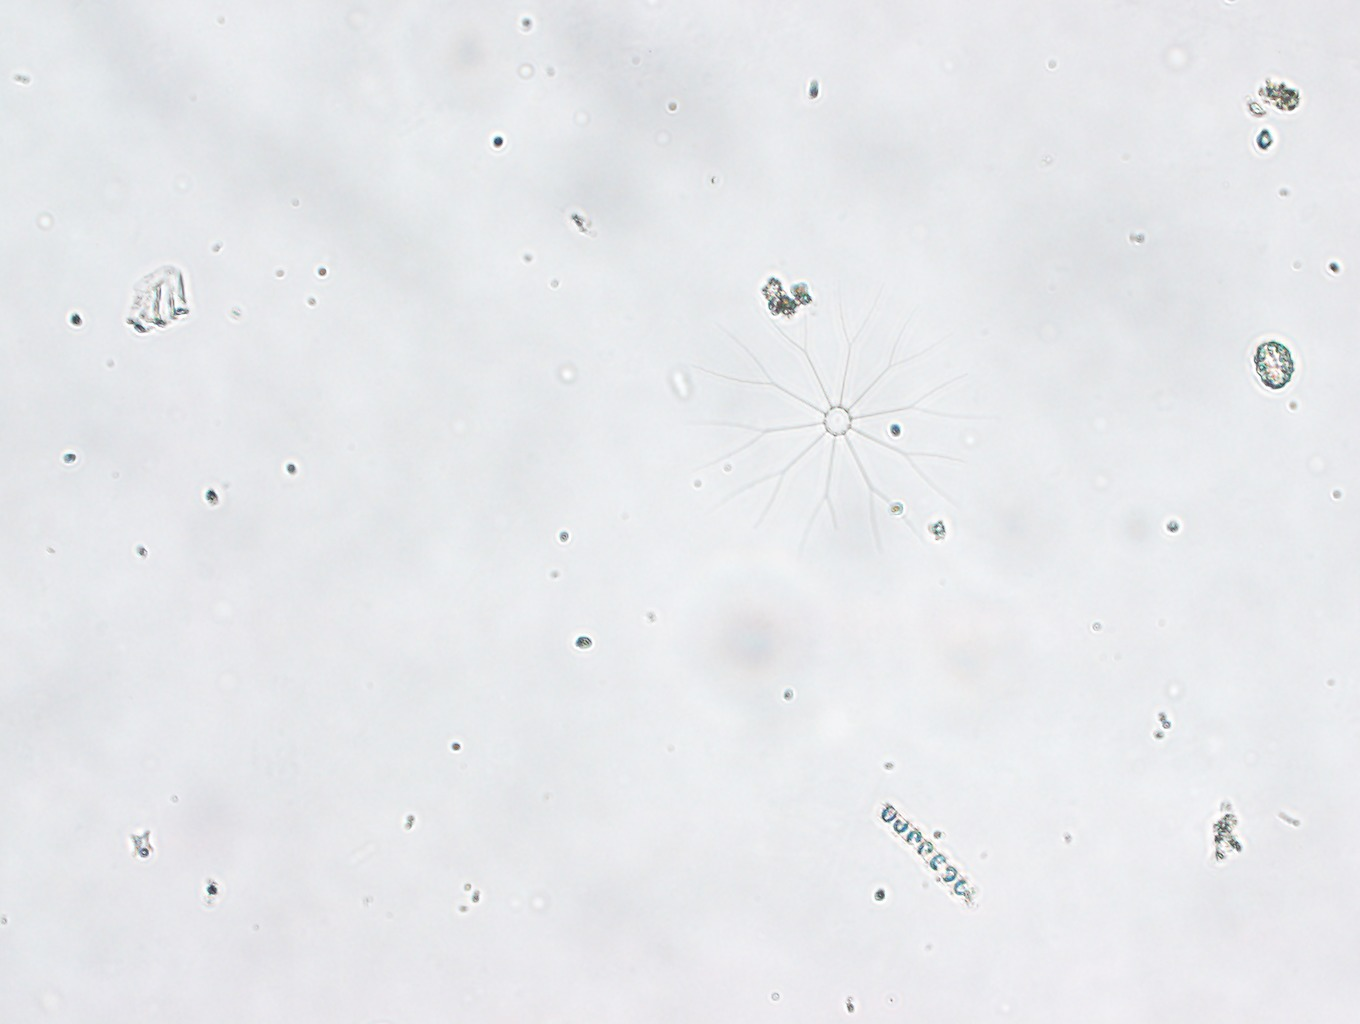bacteriastrum: (683, 270, 990, 560)
skeletonema: (869, 798, 980, 909)
